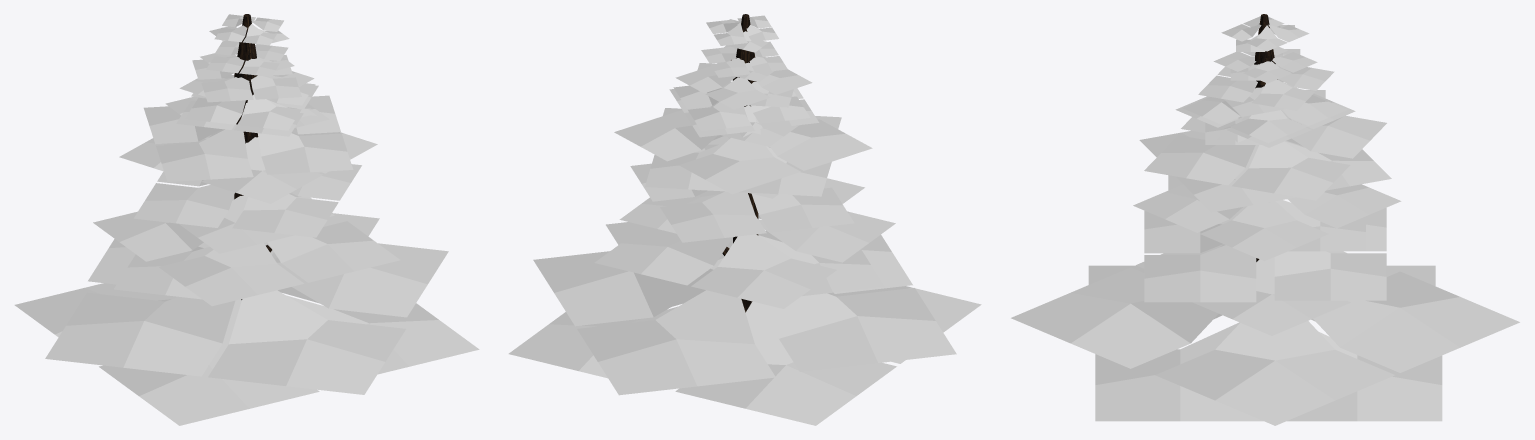
File: Firtree-01.fbx
3 views of the same model, side by side, from view 1: azimuth 30°, elevation 25°; view 2: azimuth 150°, elevation 25°; view 3: azimuth 270°, elevation 25° (orthographic). The views are drawn at different scales.
Visible parts, largest first — view 1: Plane.004, Plane.007, Plane, Plane.005, Plane.013, Plane.010, Plane.001, Plane.038, Plane.039, Plane.016, Plane.017, Plane.012 (+21 smaller); view 2: Plane.006, Plane.007, Plane.003, Plane.005, Plane.012, Plane.011, Plane.019, Plane.037, Plane.002, Plane.013, Plane.016, Plane.038 (+24 smaller); view 3: Plane.005, Plane.006, Plane.004, Plane.001, Plane.002, Plane.010, Plane.011, Plane.036, Plane.018, Plane.008, Plane.039, Plane.019 (+22 smaller).
Part boxes in pixels (left/top/right/bottom): Plane.004: left=208, top=290, right=405, bottom=394; Plane.007: left=45, top=292, right=235, bottom=376; Plane: left=99, top=299, right=319, bottom=425; Plane.005: left=275, top=243, right=448, bottom=317; Plane.013: left=159, top=243, right=303, bottom=306; Plane.010: left=267, top=221, right=400, bottom=282; Plane.001: left=286, top=295, right=479, bottom=374; Plane.038: left=156, top=124, right=253, bottom=181; Plane.039: left=257, top=133, right=353, bottom=174; Plane.016: left=134, top=183, right=234, bottom=227; Plane.017: left=232, top=194, right=338, bottom=237; Plane.012: left=93, top=211, right=203, bottom=261; Plane.006: left=577, top=290, right=775, bottom=395; Plane.007: left=769, top=288, right=956, bottom=371; Plane.003: left=675, top=301, right=896, bottom=425; Plane.005: left=533, top=251, right=711, bottom=326; Plane.012: left=691, top=234, right=836, bottom=308; Plane.011: left=594, top=226, right=732, bottom=285; Plane.019: left=660, top=191, right=766, bottom=242; Plane.037: left=679, top=138, right=800, bottom=194; Plane.002: left=508, top=306, right=677, bottom=378; Plane.013: left=758, top=211, right=895, bottom=262; Plane.016: left=752, top=187, right=854, bottom=232; Plane.038: left=770, top=119, right=872, bottom=170; Plane.005: left=1155, top=321, right=1394, bottom=425; Plane.006: left=1313, top=271, right=1519, bottom=372; Plane.004: left=1011, top=267, right=1218, bottom=368; Plane.001: left=1095, top=322, right=1263, bottom=421; Plane.002: left=1287, top=332, right=1442, bottom=421; Plane.010: left=1144, top=245, right=1256, bottom=302; Plane.011: left=1274, top=251, right=1386, bottom=300; Plane.036: left=1232, top=141, right=1350, bottom=200; Plane.018: left=1200, top=201, right=1328, bottom=261; Plane.008: left=1193, top=257, right=1350, bottom=335; Plane.039: left=1144, top=135, right=1255, bottom=185; Plane.019: left=1287, top=184, right=1401, bottom=228.
Size of the model in its own units: 795 by 672 by 810.
2 materials, 1 textured.
